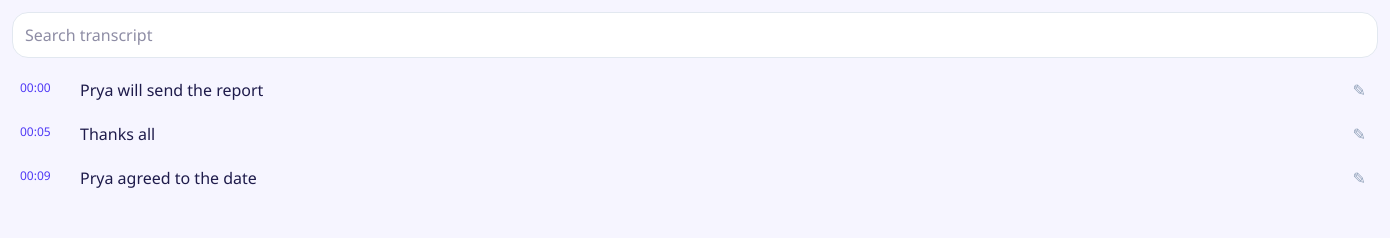
Test: replace all › fixes a repeated mistake across lines after confirmation
Type "prya" into the search field labelled "Search transcript" at x=695, y=35, box [12,12,1378,58]
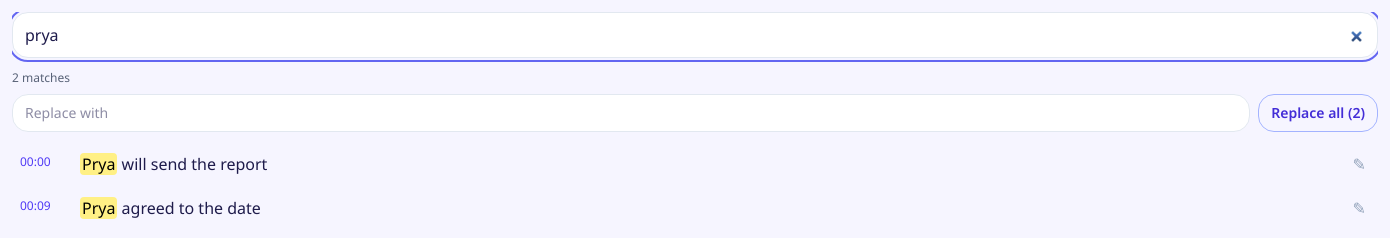
Type "Priya" into the field labelled "Replace with" at x=631, y=113, box [12,94,1250,132]
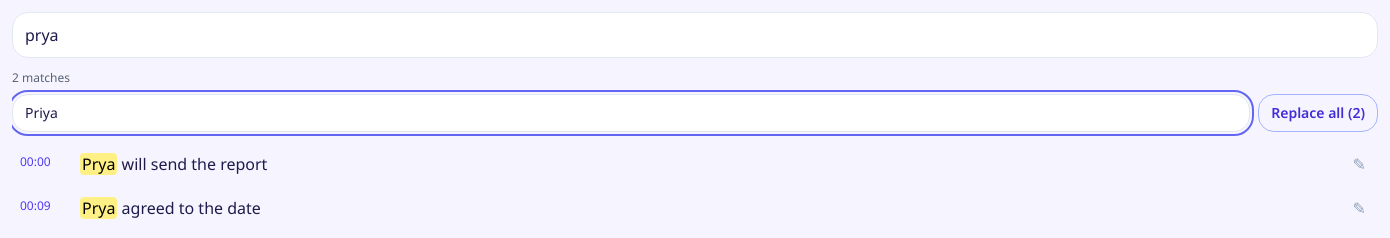
Click the button "Replace all (2)" at x=1318, y=113, box [1258,94,1378,132]
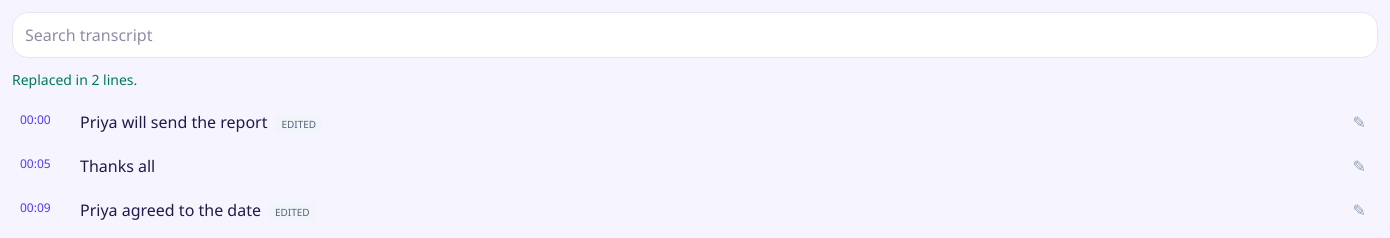
Expected: the text "Replaced in 2 lines." is shown, [12,70,137,89]
Expected: the text "Priya will send the report" is shown, [80,111,268,133]
Expected: the text "Priya agreed to the date" is shown, [80,199,261,221]
